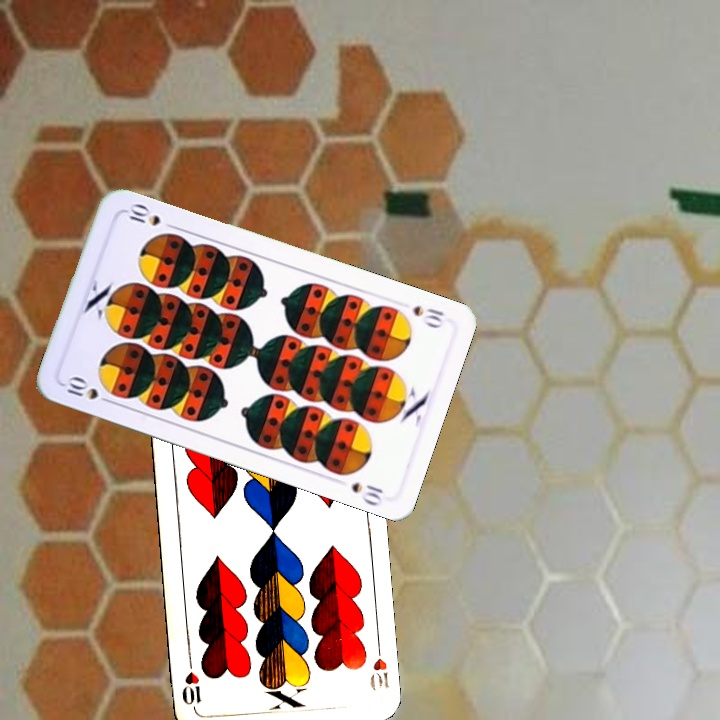H10: (366, 636, 392, 693)
S10: (59, 372, 116, 407), (408, 301, 447, 331)
